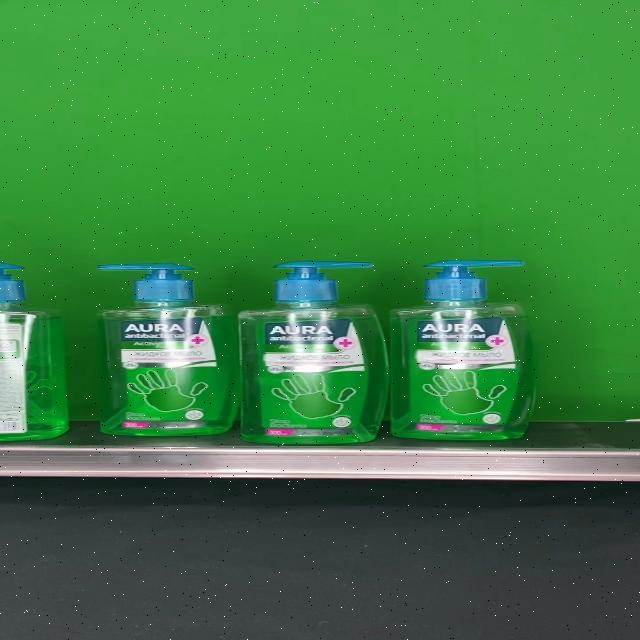Bottle: (239, 260, 388, 444), (387, 258, 535, 440), (95, 262, 241, 436)
Cap: (421, 259, 523, 301), (273, 260, 371, 302), (98, 262, 193, 300)
